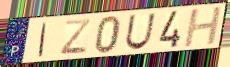0: (93, 15, 123, 55)
4: (158, 10, 182, 49)
H: (182, 5, 224, 49)
I: (37, 21, 49, 57)
U: (123, 12, 157, 51)
Z: (58, 18, 92, 56)
